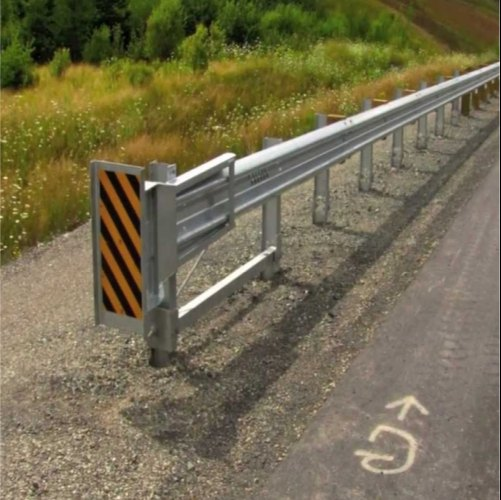not_damaged: (146, 34, 501, 253)
